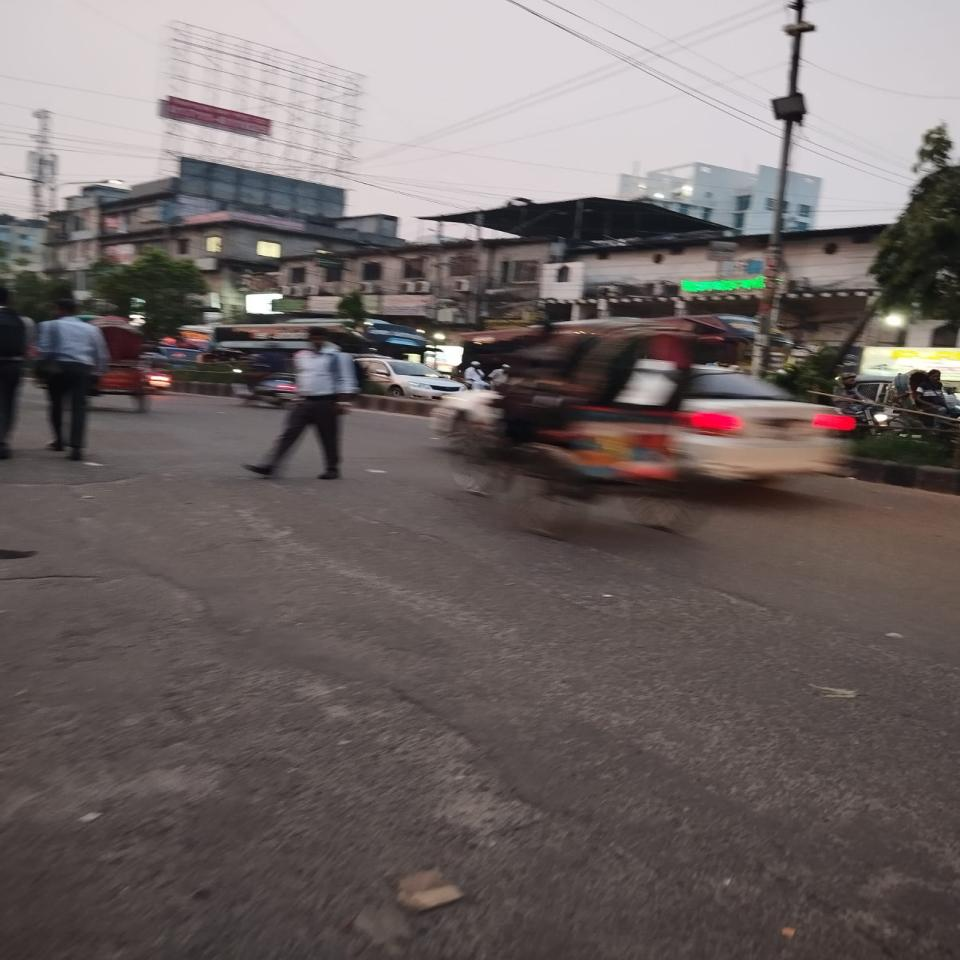person: (245, 328, 360, 480), (34, 299, 110, 462)
